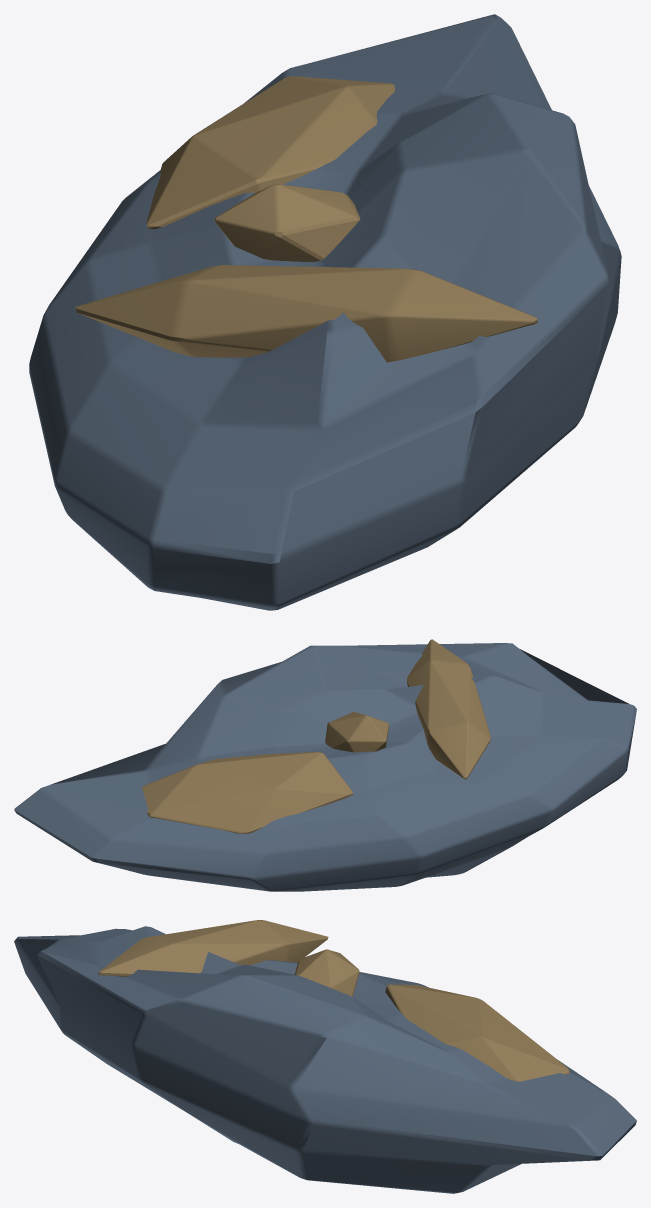
Rendered from Low Quality OreWO.fbx.
The picture shows the model from 3 angles, top to bottom: view 1: azimuth 30°, elevation 25°; view 2: azimuth 150°, elevation 25°; view 3: azimuth 270°, elevation 25°; orthographic projection. The views are drawn at different scales.
Parts seen in each view (by area): view 1: pSphere3, pPlatonic13, pPlatonic11, pPlatonic12; view 2: pSphere3, pPlatonic11, pPlatonic13, pPlatonic12; view 3: pSphere3, pPlatonic11, pPlatonic13, pPlatonic12.
Boxes of the visible parts, x1,y1,x2,y2 form: pSphere3: [29, 14, 621, 610]; pPlatonic13: [75, 265, 537, 362]; pPlatonic11: [146, 76, 394, 229]; pPlatonic12: [214, 184, 360, 261]; pSphere3: [14, 643, 636, 891]; pPlatonic11: [142, 752, 353, 833]; pPlatonic13: [407, 639, 490, 779]; pPlatonic12: [325, 712, 389, 752]; pSphere3: [14, 926, 636, 1193]; pPlatonic11: [385, 984, 569, 1081]; pPlatonic13: [98, 920, 328, 976]; pPlatonic12: [294, 949, 359, 996].
Bounding box in the file's own units: 3.56 × 1.54 × 4.18.
